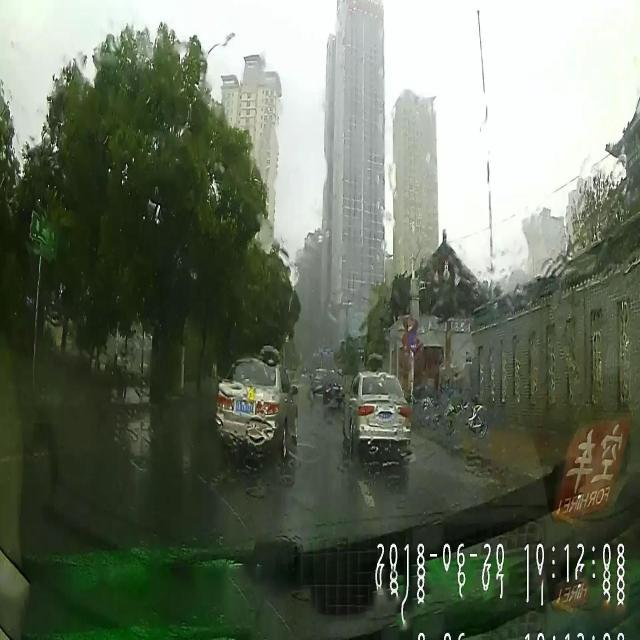car: (213, 354, 300, 464), (342, 368, 413, 456), (324, 373, 347, 407)
